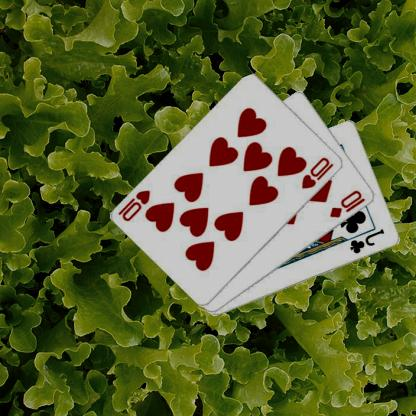10D: (329, 188, 368, 219)
10H: (118, 187, 154, 223), (301, 155, 337, 190)
JC: (349, 226, 388, 256)
